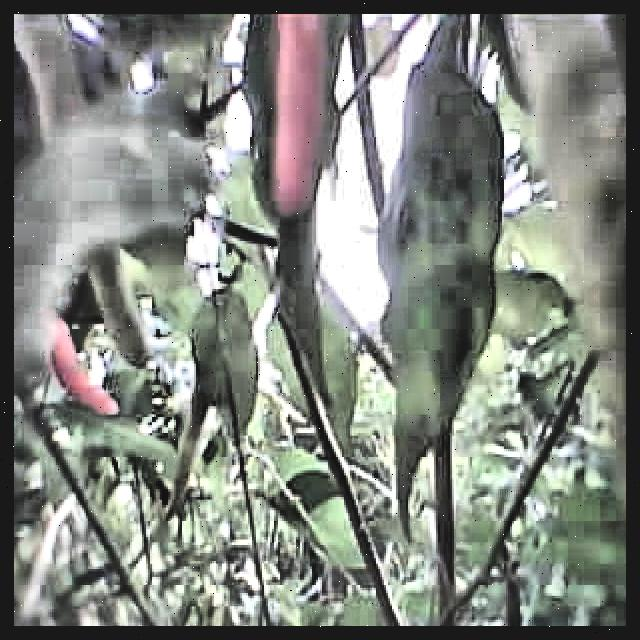Cabai: (264, 14, 322, 212), (48, 317, 117, 429)
